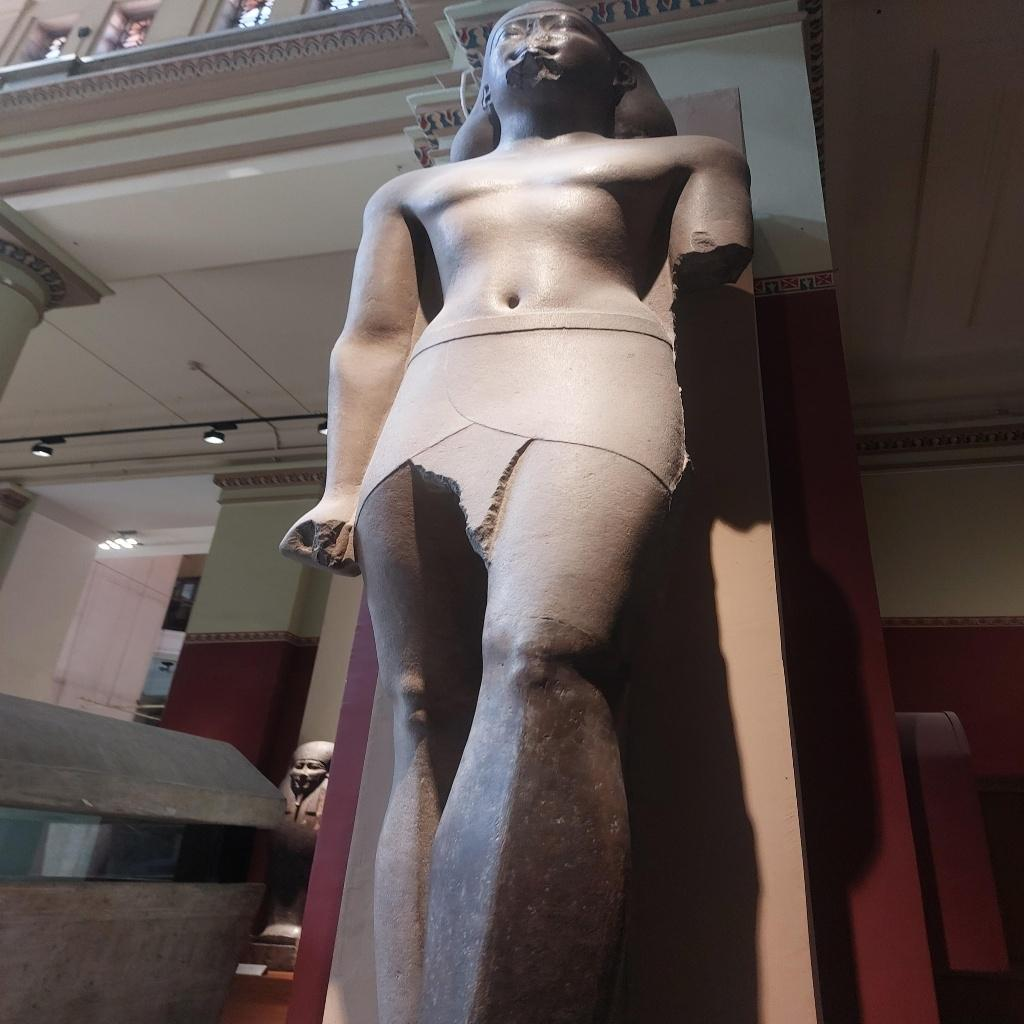Colossal Statue of Hormoheb: (274, 3, 760, 1019)
